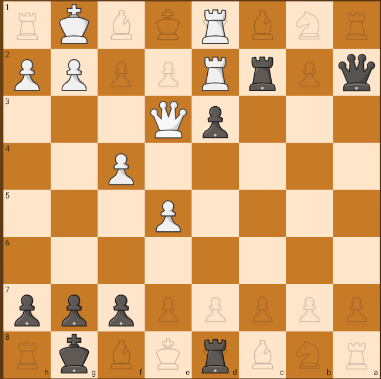bk: (54, 333, 94, 376)
bp: (54, 286, 95, 329), (102, 288, 141, 329), (11, 288, 45, 330), (198, 101, 234, 140)
bq: (335, 48, 377, 93)
br: (242, 51, 283, 93), (194, 333, 234, 373)
wk: (55, 4, 91, 47)
wp: (147, 194, 190, 235), (6, 54, 46, 91), (104, 149, 140, 187), (58, 54, 91, 93)
wq: (144, 98, 190, 142)
wr: (198, 3, 235, 47), (196, 53, 236, 92)
